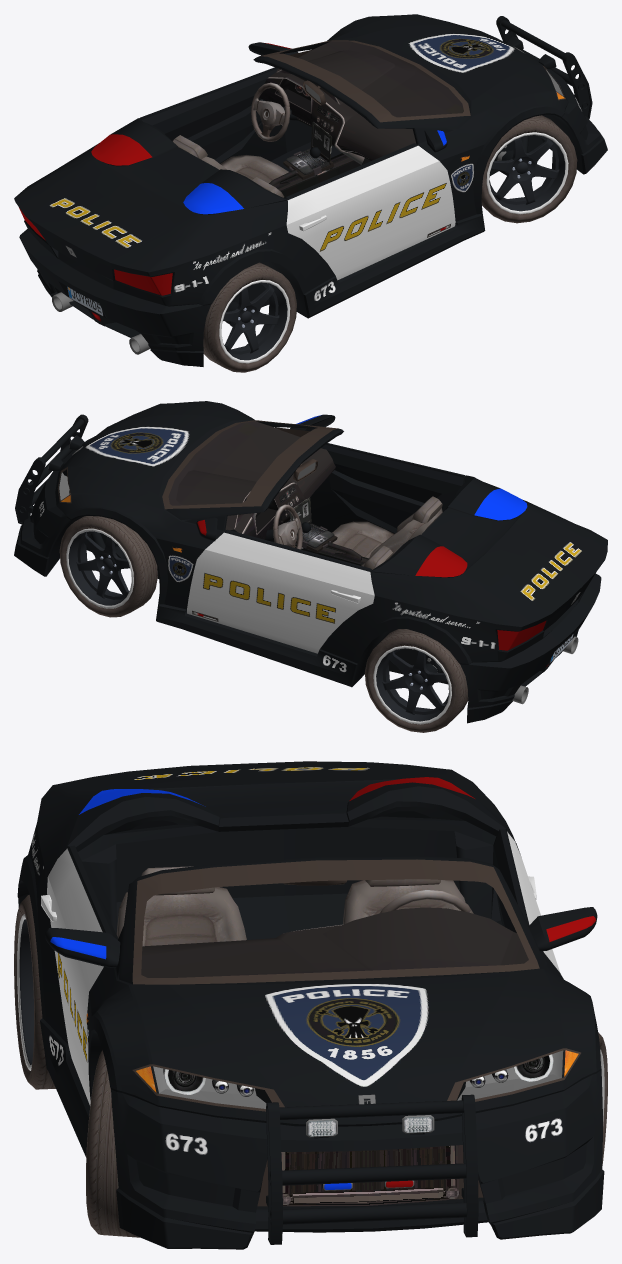
The model's file is car1.glb.
The picture shows the model from 3 angles, top to bottom: view 1: azimuth 30°, elevation 25°; view 2: azimuth 150°, elevation 25°; view 3: azimuth 270°, elevation 25°; orthographic projection. The views are drawn at different scales.
Parts seen in each view (by area): view 1: node_id213, node_id199, node_id223, node_id83, node_id74, node_id205, node_id195, node_id122, node_id80, node_id124, node_id87, node_id78 (+5 smaller); view 2: node_id213, node_id199, node_id223, node_id65, node_id56, node_id205, node_id181, node_id62, node_id71, node_id122, node_id195, node_id69 (+5 smaller); view 3: node_id213, node_id199, node_id223, node_id205, node_id122, node_id221, node_id181, node_id89, node_id124, node_id193, node_id201, node_id74 (+8 smaller).
Part boxes in pixels (x1,y1,x2,y2): node_id213: (14, 14, 607, 366); node_id199: (24, 14, 588, 344); node_id223: (259, 41, 463, 198); node_id83: (486, 132, 568, 214); node_id74: (219, 280, 290, 363); node_id205: (260, 40, 565, 122); node_id195: (19, 134, 172, 295); node_id122: (496, 16, 592, 118); node_id80: (203, 262, 296, 372); node_id124: (172, 135, 288, 183); node_id87: (482, 127, 574, 220); node_id78: (215, 274, 295, 369); node_id213: (14, 401, 607, 723); node_id199: (33, 403, 604, 699); node_id223: (168, 421, 368, 565); node_id65: (373, 645, 451, 724); node_id56: (66, 528, 133, 608); node_id205: (57, 420, 337, 509); node_id181: (332, 496, 442, 558); node_id62: (59, 516, 157, 617); node_id71: (365, 629, 468, 732); node_id122: (15, 414, 88, 524); node_id195: (415, 546, 546, 650); node_id69: (367, 640, 456, 730); node_id213: (18, 761, 604, 1249); node_id199: (17, 762, 600, 1232); node_id223: (141, 907, 528, 977); node_id205: (132, 859, 580, 1111); node_id122: (266, 1094, 478, 1244); node_id221: (257, 1145, 483, 1206); node_id181: (116, 866, 246, 946); node_id89: (86, 1050, 139, 1237); node_id124: (343, 879, 465, 924); node_id193: (153, 1050, 563, 1108); node_id201: (164, 1054, 553, 1096); node_id74: (17, 914, 34, 1070).
Size of the model in its own units: 1.02 by 0.3601 by 0.5469.
82 materials, 82 textured.
